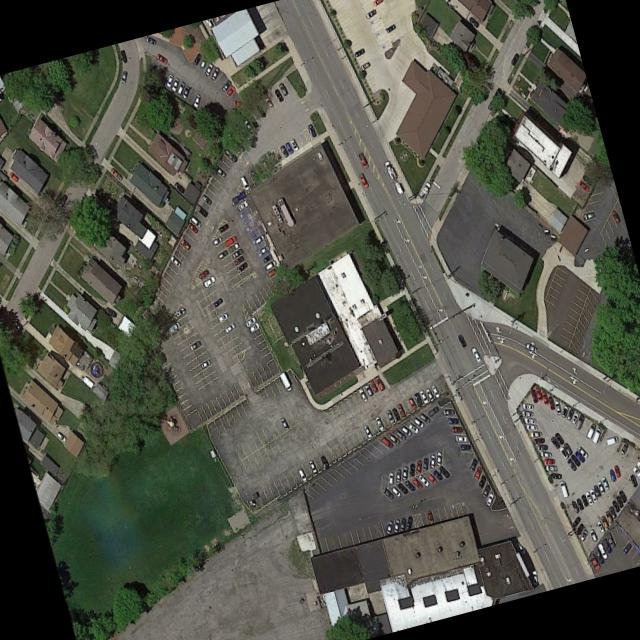large-vehicle: (382, 160, 403, 196), (417, 181, 431, 200), (277, 373, 291, 392), (602, 530, 615, 549), (229, 191, 245, 205), (222, 149, 237, 163), (356, 152, 368, 169), (193, 204, 207, 218), (595, 543, 607, 559), (600, 538, 612, 554), (588, 554, 599, 571), (222, 235, 236, 248), (108, 168, 122, 181), (357, 173, 368, 189), (593, 549, 604, 565)
small-vehicle: (201, 274, 216, 288), (573, 414, 585, 431), (557, 481, 568, 499), (468, 347, 481, 362), (585, 424, 597, 439), (436, 465, 449, 478), (472, 465, 482, 481), (373, 375, 383, 391), (591, 427, 601, 443), (380, 437, 393, 449), (104, 307, 117, 319), (576, 180, 589, 192), (243, 316, 256, 328), (189, 216, 201, 229), (466, 15, 478, 28), (172, 182, 185, 194), (576, 446, 588, 459), (165, 322, 179, 333), (318, 454, 329, 468), (305, 124, 316, 138), (306, 460, 316, 475), (169, 78, 179, 93), (390, 407, 400, 422), (456, 333, 466, 348), (580, 174, 592, 186), (417, 475, 429, 487), (223, 322, 235, 334), (155, 53, 167, 65), (223, 85, 235, 97), (252, 234, 264, 246), (214, 166, 226, 178), (178, 238, 190, 250), (235, 261, 247, 273), (387, 434, 400, 445), (411, 418, 424, 429), (187, 340, 200, 351), (288, 139, 299, 152), (230, 248, 243, 259), (247, 322, 260, 333), (263, 260, 276, 271), (56, 194, 67, 207), (549, 437, 560, 450), (569, 454, 580, 467), (254, 105, 265, 118), (191, 52, 202, 65), (196, 269, 209, 280), (524, 342, 537, 353), (476, 475, 487, 488), (583, 492, 594, 505), (618, 443, 629, 456), (480, 485, 490, 499), (296, 468, 306, 482), (175, 81, 185, 95), (209, 66, 219, 80), (238, 176, 248, 190), (373, 416, 383, 430), (569, 500, 579, 514), (491, 87, 501, 101), (247, 115, 257, 129), (587, 489, 597, 503), (630, 466, 640, 480), (604, 436, 618, 446), (385, 409, 394, 424), (382, 488, 393, 500), (411, 478, 422, 490), (399, 426, 411, 437), (406, 423, 418, 434), (396, 483, 407, 495), (227, 243, 239, 254), (553, 433, 564, 445), (574, 451, 585, 463), (211, 297, 223, 308), (278, 417, 288, 430), (430, 385, 440, 398), (203, 63, 213, 76), (277, 83, 287, 96), (362, 426, 372, 439), (357, 389, 367, 402), (566, 458, 576, 471), (574, 498, 584, 511), (272, 90, 282, 103), (242, 119, 252, 132), (216, 223, 229, 233), (260, 254, 273, 264), (558, 446, 568, 459), (587, 529, 597, 542), (610, 210, 620, 223), (391, 519, 400, 533), (164, 74, 173, 88), (396, 404, 405, 418), (614, 494, 623, 508), (596, 481, 605, 495), (418, 413, 429, 424), (404, 481, 415, 492), (6, 171, 17, 182), (220, 81, 231, 92), (187, 223, 198, 234), (200, 194, 211, 205), (573, 524, 584, 535), (467, 459, 477, 471), (198, 359, 210, 369), (173, 307, 185, 317), (169, 255, 179, 267), (192, 93, 200, 108), (263, 97, 273, 109), (278, 145, 288, 157), (235, 201, 247, 211), (258, 245, 270, 255), (431, 470, 443, 480), (529, 388, 537, 403), (232, 255, 244, 265), (266, 268, 278, 278), (621, 543, 631, 555), (594, 521, 604, 533), (569, 412, 579, 424), (485, 493, 494, 506), (424, 389, 433, 402), (418, 391, 427, 404), (180, 86, 189, 99), (368, 380, 377, 393), (413, 393, 422, 406), (579, 495, 588, 508), (509, 53, 518, 66), (610, 500, 619, 513), (599, 516, 608, 529), (398, 517, 406, 531), (425, 511, 433, 525), (359, 61, 370, 71), (216, 250, 227, 260), (143, 36, 155, 45), (427, 407, 439, 416), (407, 398, 416, 410), (562, 443, 571, 455), (565, 409, 574, 421), (599, 477, 608, 489), (385, 520, 392, 535), (591, 485, 599, 498), (119, 50, 127, 63), (540, 391, 548, 404), (560, 405, 568, 418), (390, 487, 400, 497), (55, 431, 65, 441), (426, 474, 436, 484), (395, 432, 406, 441), (283, 143, 292, 154), (353, 49, 364, 58), (216, 313, 227, 322), (211, 236, 222, 245), (578, 530, 587, 541), (119, 71, 126, 85), (405, 515, 412, 529), (553, 401, 560, 415), (534, 386, 541, 400), (454, 435, 466, 443), (364, 385, 372, 397), (629, 475, 637, 487), (618, 490, 626, 502), (604, 511, 612, 523), (414, 460, 421, 473), (408, 463, 415, 476), (541, 458, 554, 465), (538, 451, 551, 458), (519, 403, 532, 410), (435, 451, 441, 466), (364, 10, 374, 19), (384, 24, 394, 33), (229, 108, 240, 116), (401, 466, 407, 480), (450, 426, 462, 433), (371, 0, 383, 7), (582, 213, 594, 220), (612, 466, 619, 478), (422, 457, 428, 471), (544, 465, 556, 472), (534, 444, 548, 450), (525, 424, 537, 431), (523, 418, 535, 425), (520, 410, 532, 417), (547, 396, 553, 410), (608, 506, 615, 518), (571, 517, 579, 527), (394, 469, 400, 482), (608, 470, 615, 481), (231, 100, 242, 107), (387, 472, 393, 484), (532, 438, 544, 444), (458, 444, 470, 450), (429, 454, 434, 468), (447, 418, 458, 424), (442, 409, 453, 415), (548, 474, 560, 479), (529, 432, 541, 437), (635, 461, 640, 470)
